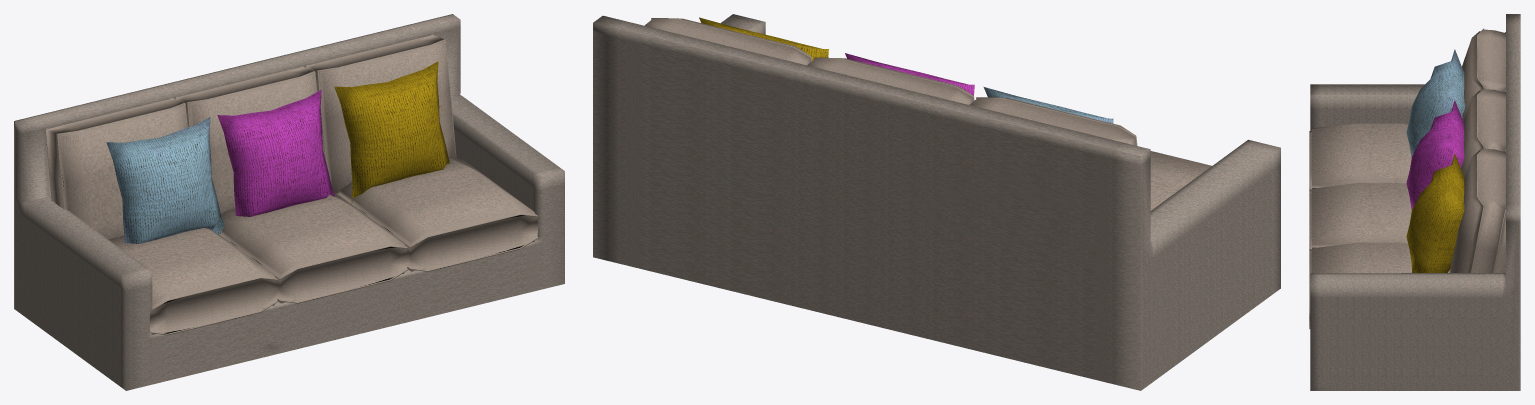
The model's file is couch.glb.
3 views of the same model, side by side, from view 1: azimuth 30°, elevation 25°; view 2: azimuth 150°, elevation 25°; view 3: azimuth 270°, elevation 25° (orthographic). The views are drawn at different scales.
Visible parts, largest first — view 1: Cushions_Cube, Couch_Plane, Pillows_Cube.004; view 2: Couch_Plane, Cushions_Cube, Pillows_Cube.004; view 3: Couch_Plane, Cushions_Cube, Pillows_Cube.004.
Part boxes in pixels (x1=…): Cushions_Cube: x1=45, y1=34, x2=538, y2=335; Couch_Plane: x1=14, y1=14, x2=564, y2=390; Pillows_Cube.004: x1=106, y1=61, x2=449, y2=243; Couch_Plane: x1=593, y1=14, x2=1280, y2=390; Cushions_Cube: x1=644, y1=18, x2=1211, y2=210; Pillows_Cube.004: x1=699, y1=17, x2=1113, y2=123; Couch_Plane: x1=1310, y1=14, x2=1520, y2=390; Cushions_Cube: x1=1309, y1=28, x2=1505, y2=328; Pillows_Cube.004: x1=1406, y1=49, x2=1465, y2=272.
Bounding box in the file's own units: 6.92 × 2.83 × 3.08.
Materials: 3 (3 with a texture image).
